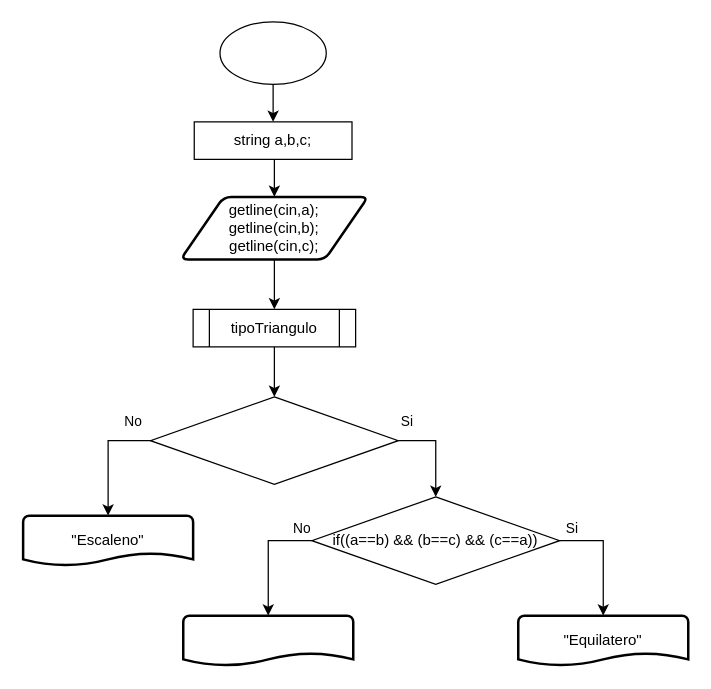
Some shapes in this 711 by 689 pixel diagram are drawn without their labels. The centre of each missing label's shape, as x and y in pixels:
"Isosceles": pixel 267 640
if((a==b) || (b==c) || (c==a)): pixel 273 440
Inicio: pixel 272 52
